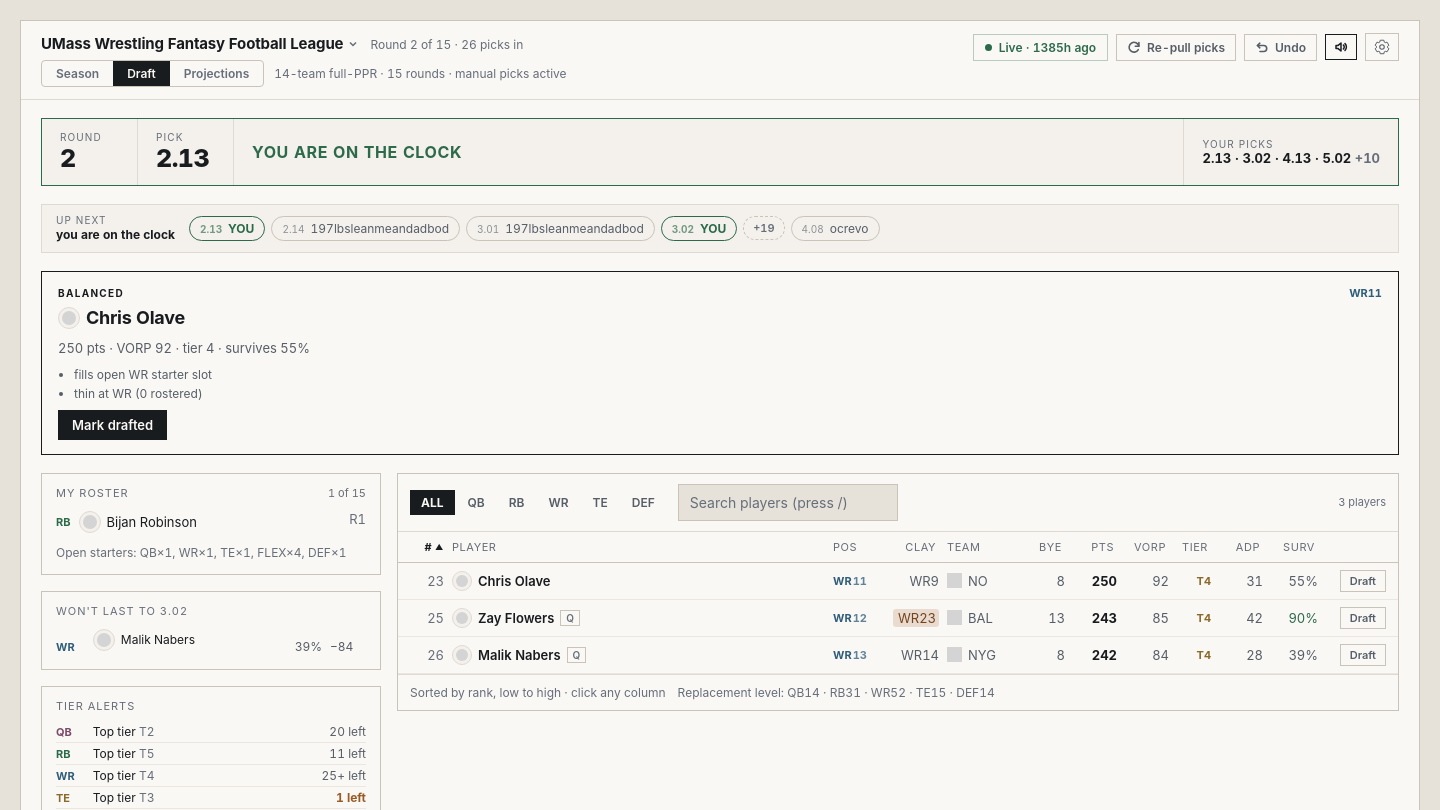
Test: the version row › shows the version the shell reports
The image size is (1440, 810).
Expected: the heading "UMass Wrestling Fantasy Football League" is shown, x1=41 y1=33 x2=358 y2=54
Click the button named "Settings" at (1382, 47), box x1=1365 y1=33 x2=1399 y2=61
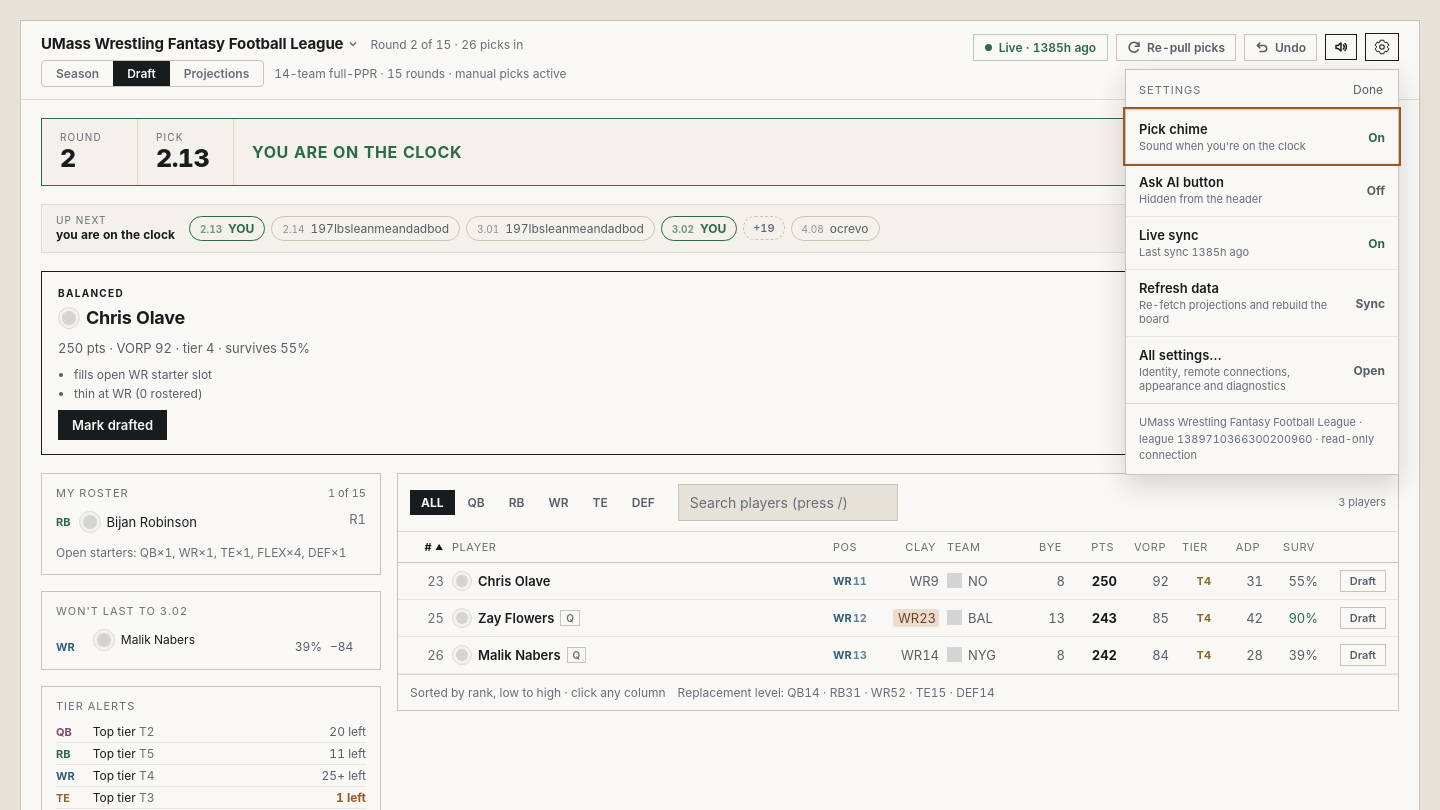
Click the menu item "All settings" at (1262, 370), box x1=1126 y1=336 x2=1398 y2=403
(page scrolled)
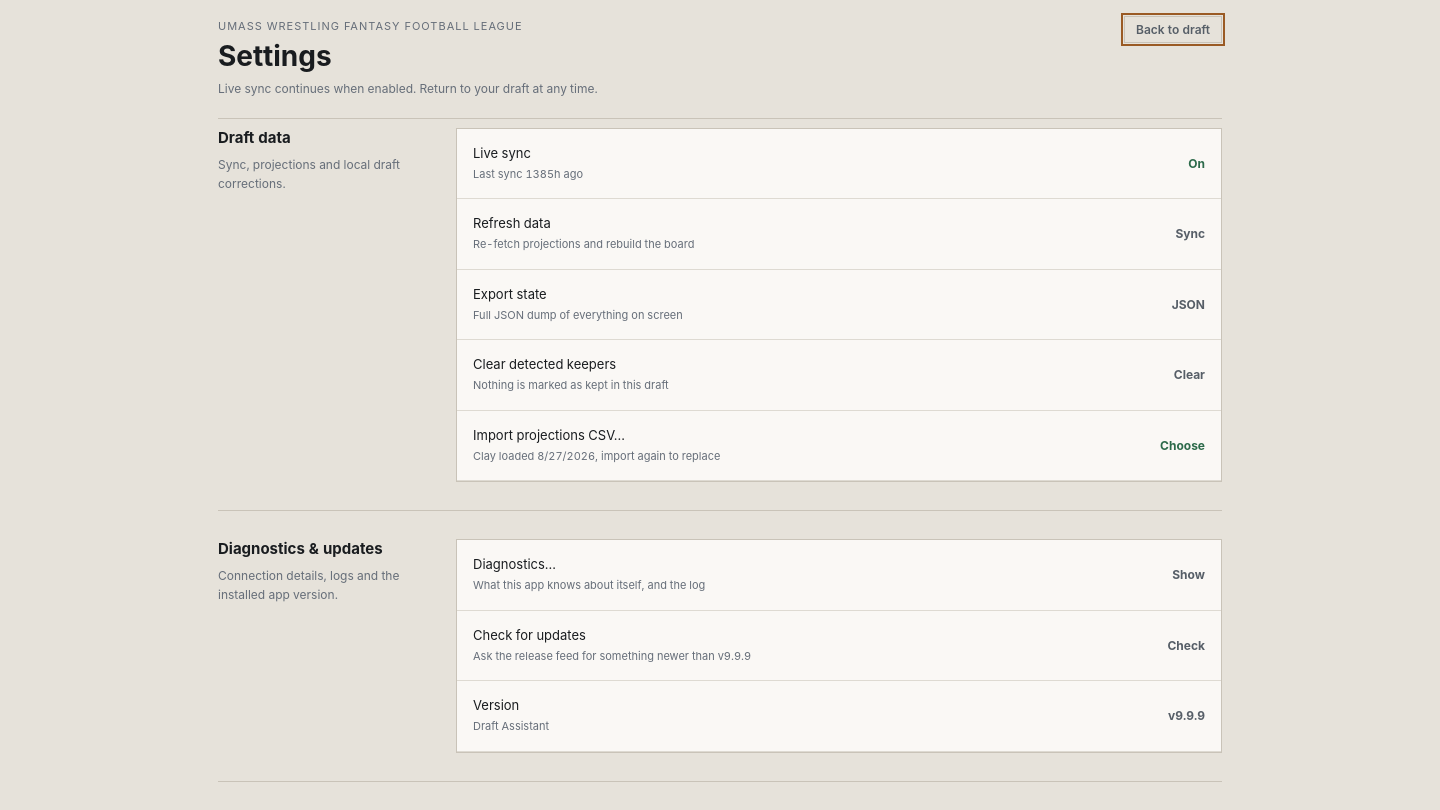
Result: the button "Version Draft Assistant v9.9.9" is shown at x1=457 y1=681 x2=1221 y2=752
